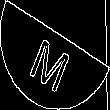M_NE: (31, 21, 79, 89)
